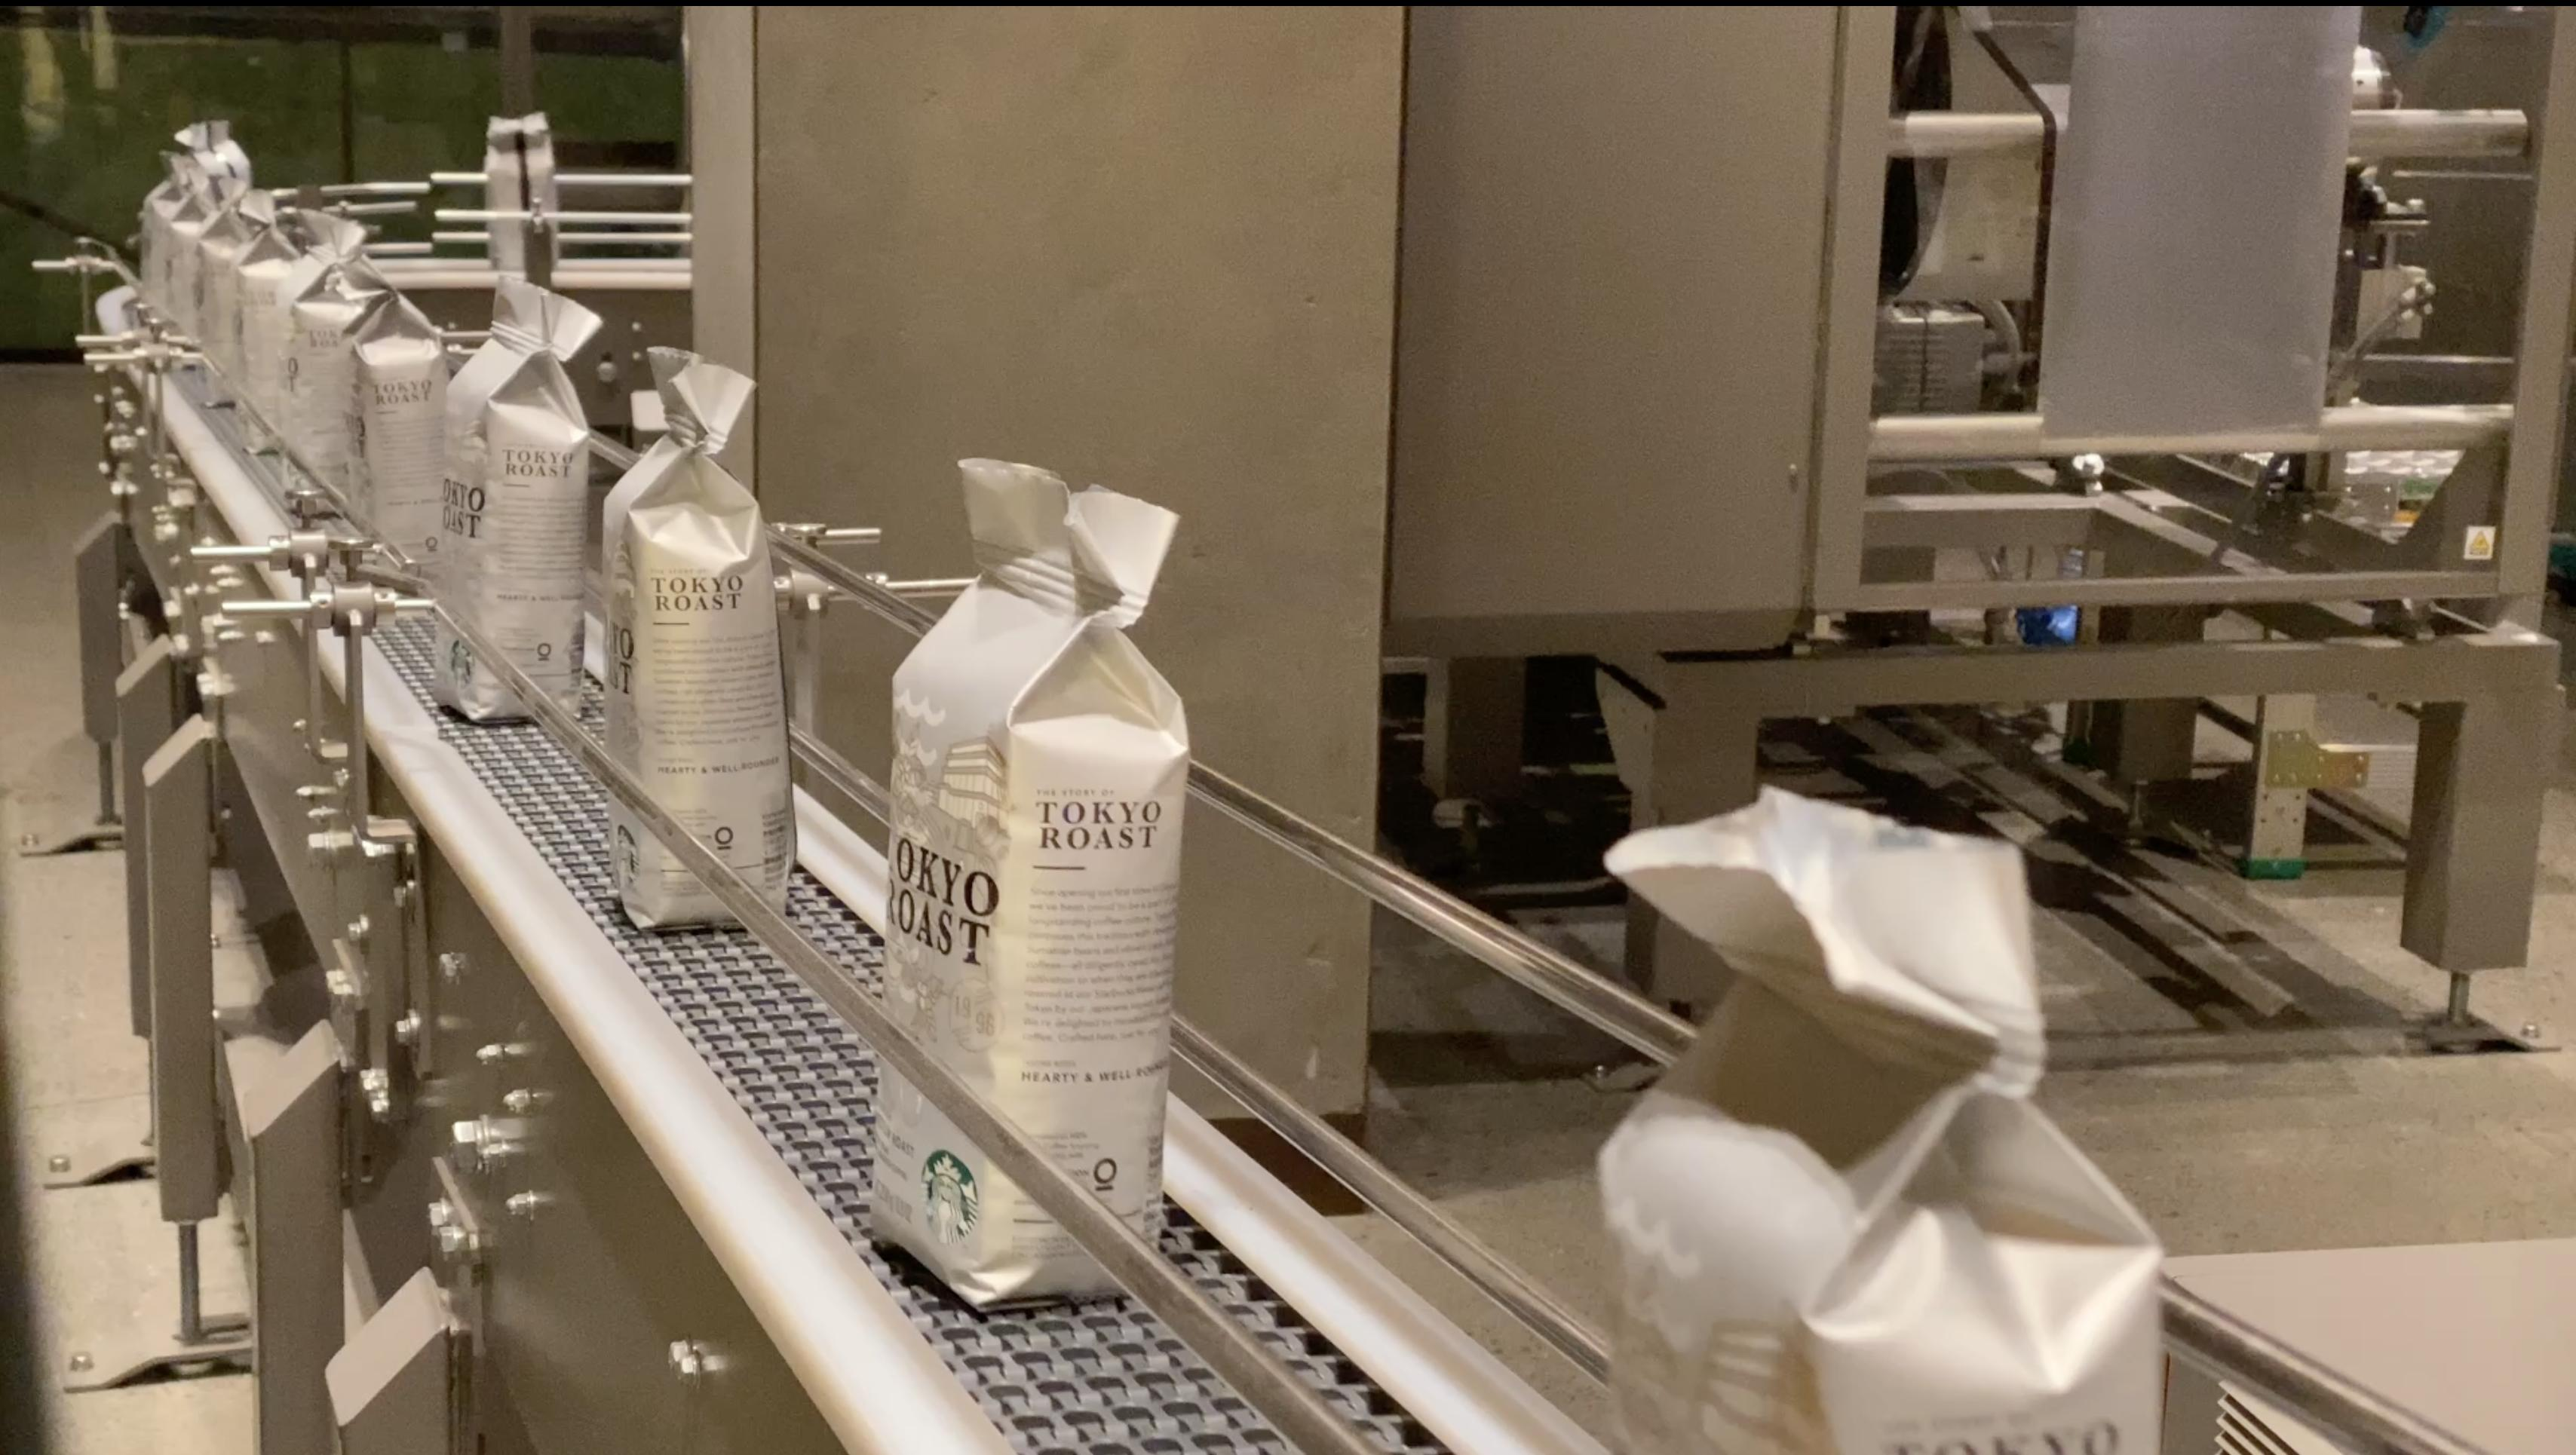bag: (1598, 778, 2162, 1455), (879, 444, 1175, 1284), (630, 355, 780, 900), (467, 304, 573, 689), (357, 283, 442, 550), (288, 230, 359, 479), (490, 117, 556, 267), (244, 221, 288, 430), (203, 196, 242, 371), (168, 205, 205, 343)
